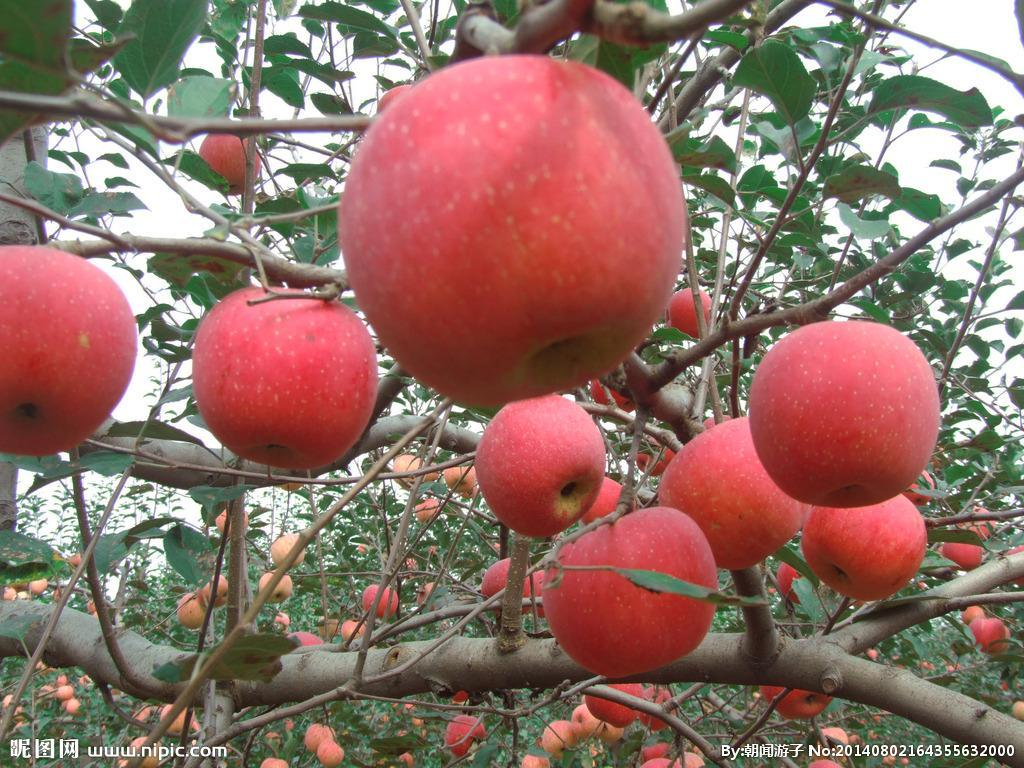apple: (339, 51, 686, 407), (746, 318, 939, 507), (190, 283, 378, 472), (539, 507, 719, 678), (1, 247, 135, 459), (661, 418, 808, 567), (474, 395, 606, 539), (803, 497, 928, 600), (199, 132, 264, 192), (255, 565, 295, 606), (542, 718, 577, 758), (572, 704, 604, 742)
